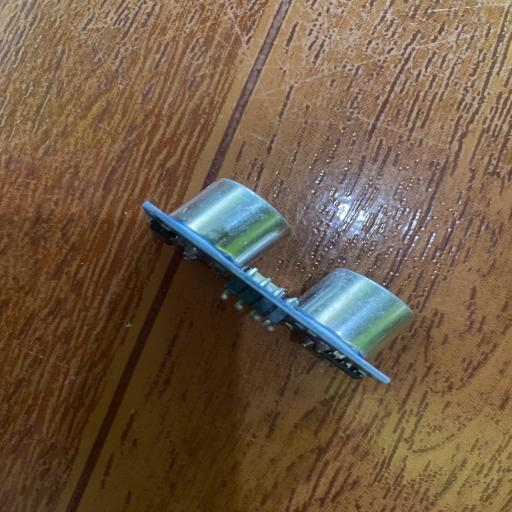Ultrasonic Sensor: (138, 176, 416, 385)
